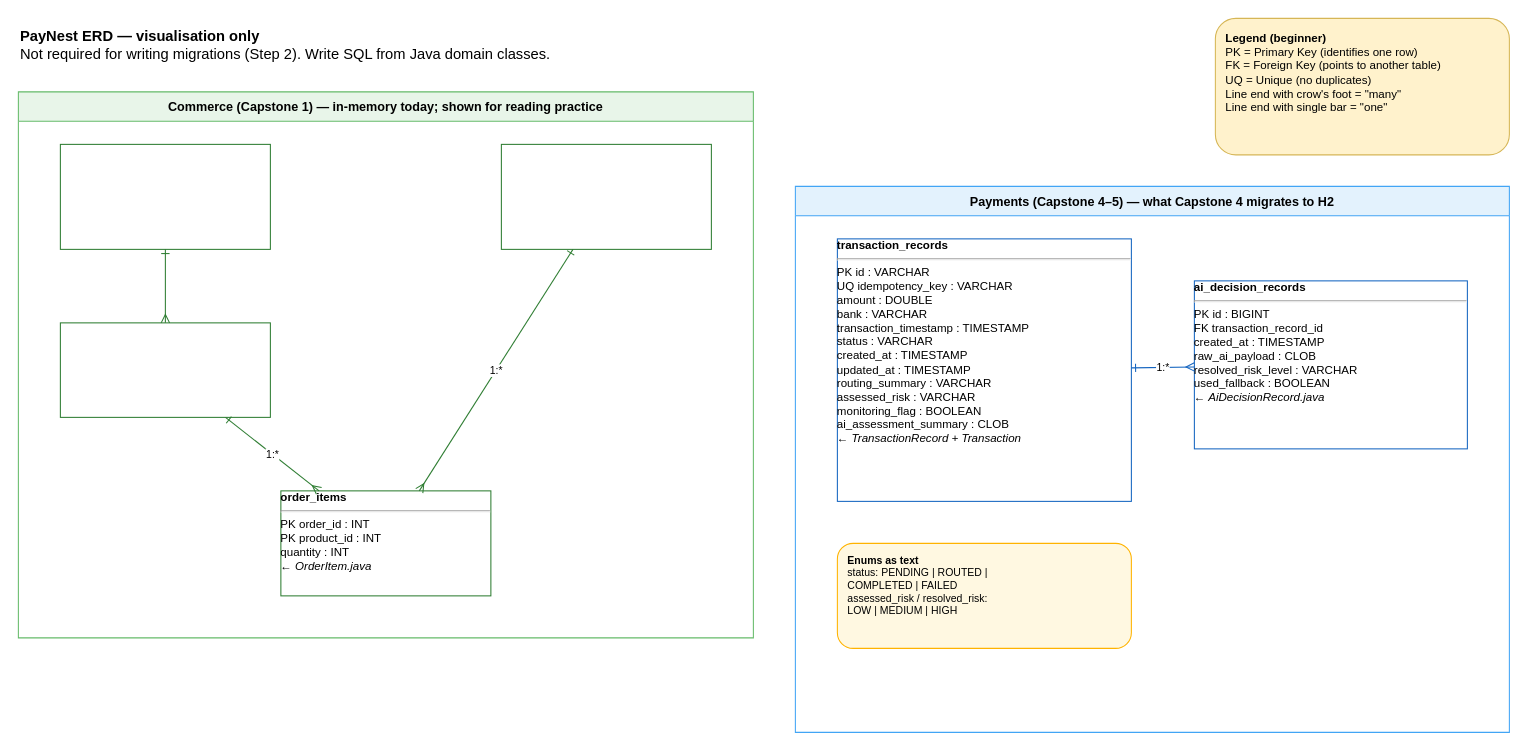
Image size: 1528x751. Some labels were removed from this diagram. The shapes that lost their labels are listed below. From the top down, each one's centre as x and y in pixels, then its label:
At pixel 164 196: "customers PK id : INT name : VARCHAR email : VARCHAR ← Customer.java".
At pixel 605 196: "products PK id : INT name : VARCHAR price : DOUBLE ← Product.java".
At pixel 164 369: "orders PK id : INT FK customer_id : INT ← Order.java".
